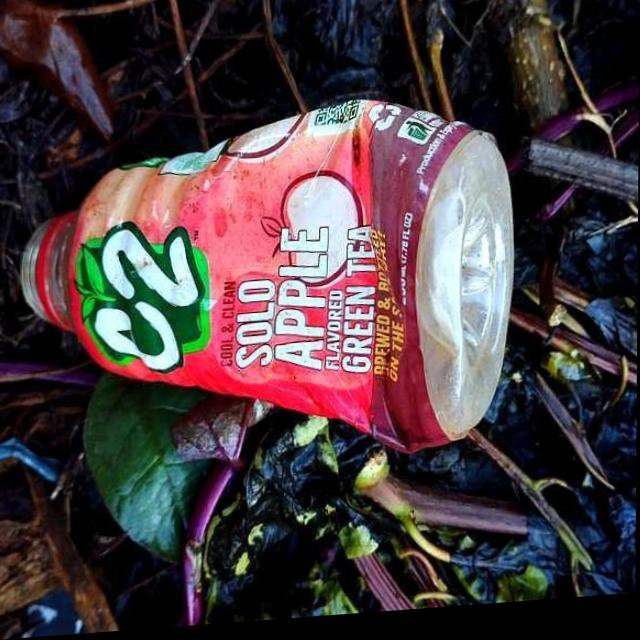Non-biodegradable: (22, 97, 515, 484)
